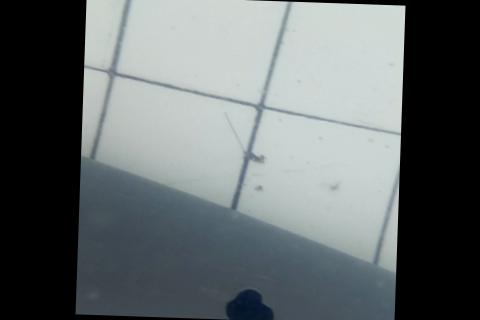kebocoran: (221, 286, 276, 320)
